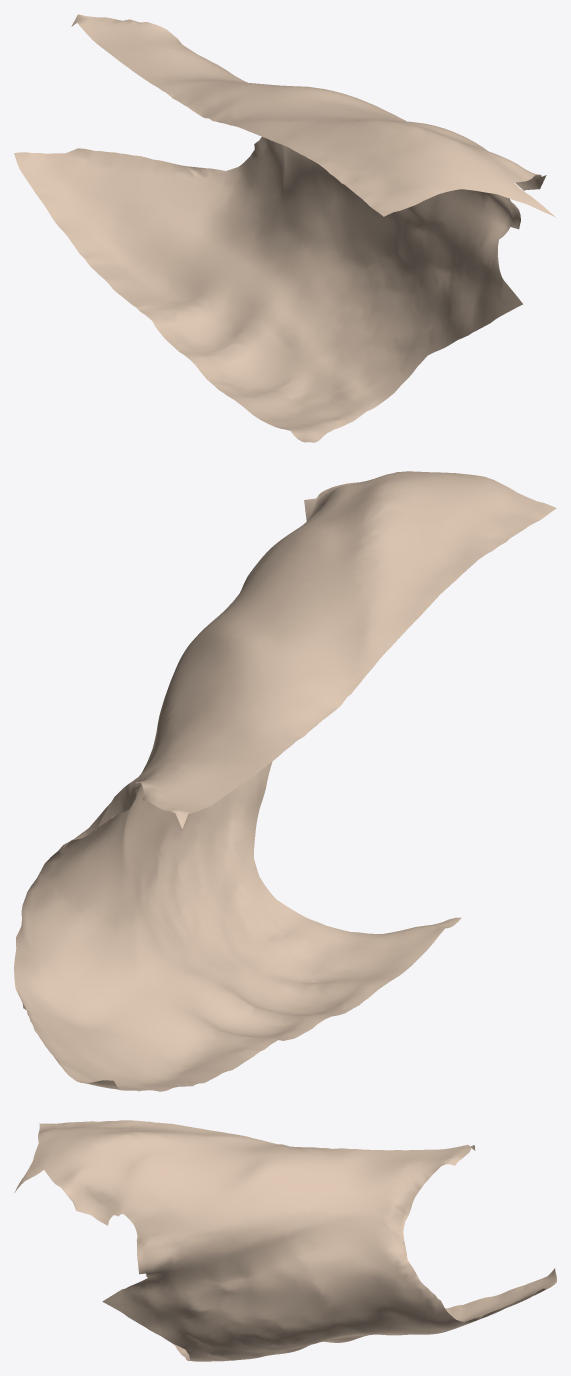
3 renders of one model, top to bottom at view 1: azimuth 30°, elevation 25°; view 2: azimuth 150°, elevation 25°; view 3: azimuth 270°, elevation 25°, orthographic. The views are drawn at different scales.
Parts seen in each view (by area): view 1: 左侧腹壁包被筋膜; view 2: 左侧腹壁包被筋膜; view 3: 左侧腹壁包被筋膜.
Boxes of the visible parts, left/top/right/bottom form: 左侧腹壁包被筋膜: left=14, top=14, right=555, bottom=442; 左侧腹壁包被筋膜: left=14, top=471, right=556, bottom=1091; 左侧腹壁包被筋膜: left=14, top=1120, right=556, bottom=1361.
Bounding box in the file's own units: 0.2516 × 0.379 × 0.815.
